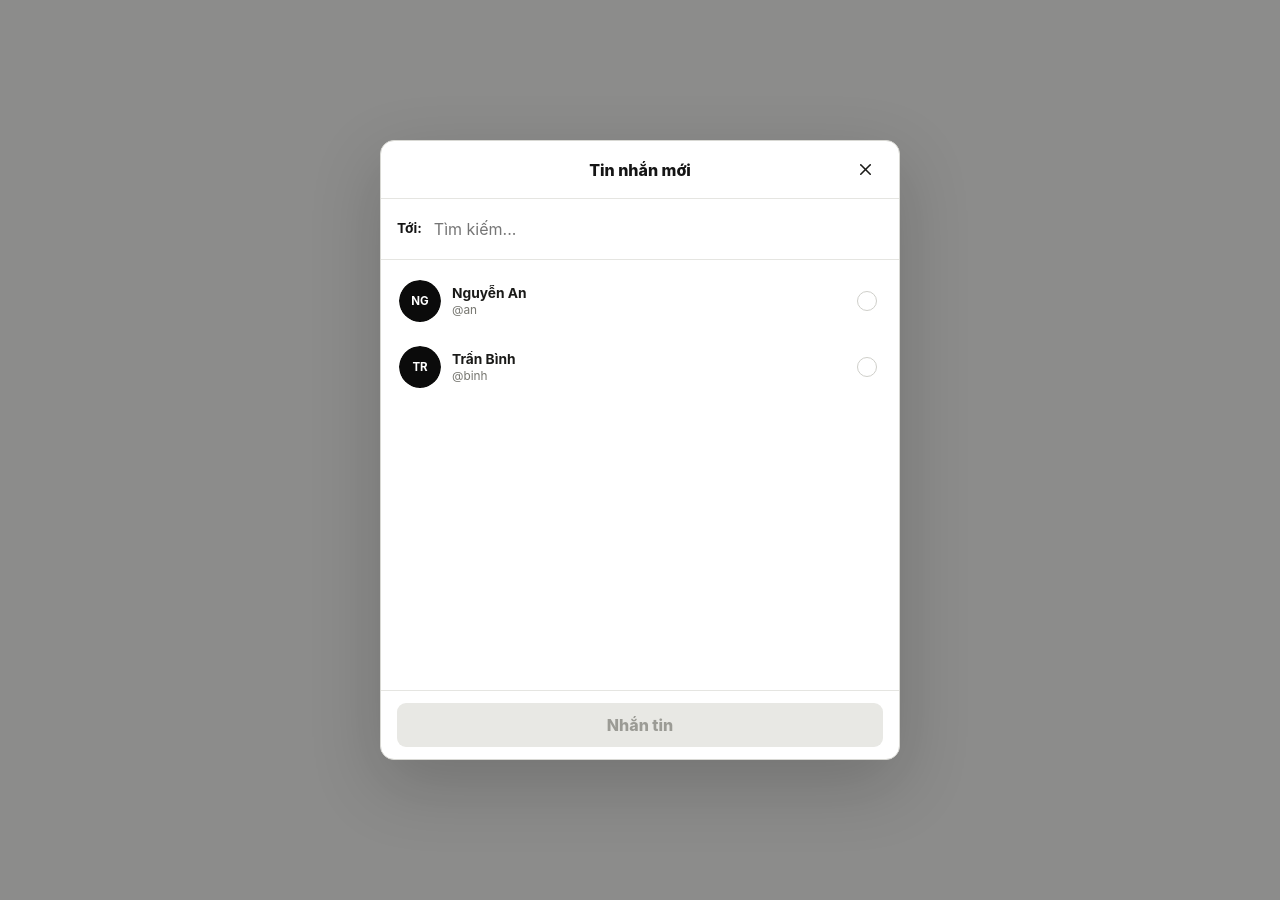
Test case: NewConversationDialog › does not close or submit twice while group creation is pending
Click the text "Nguyễn An".
click(489, 293)  # box [452,285,527,301]
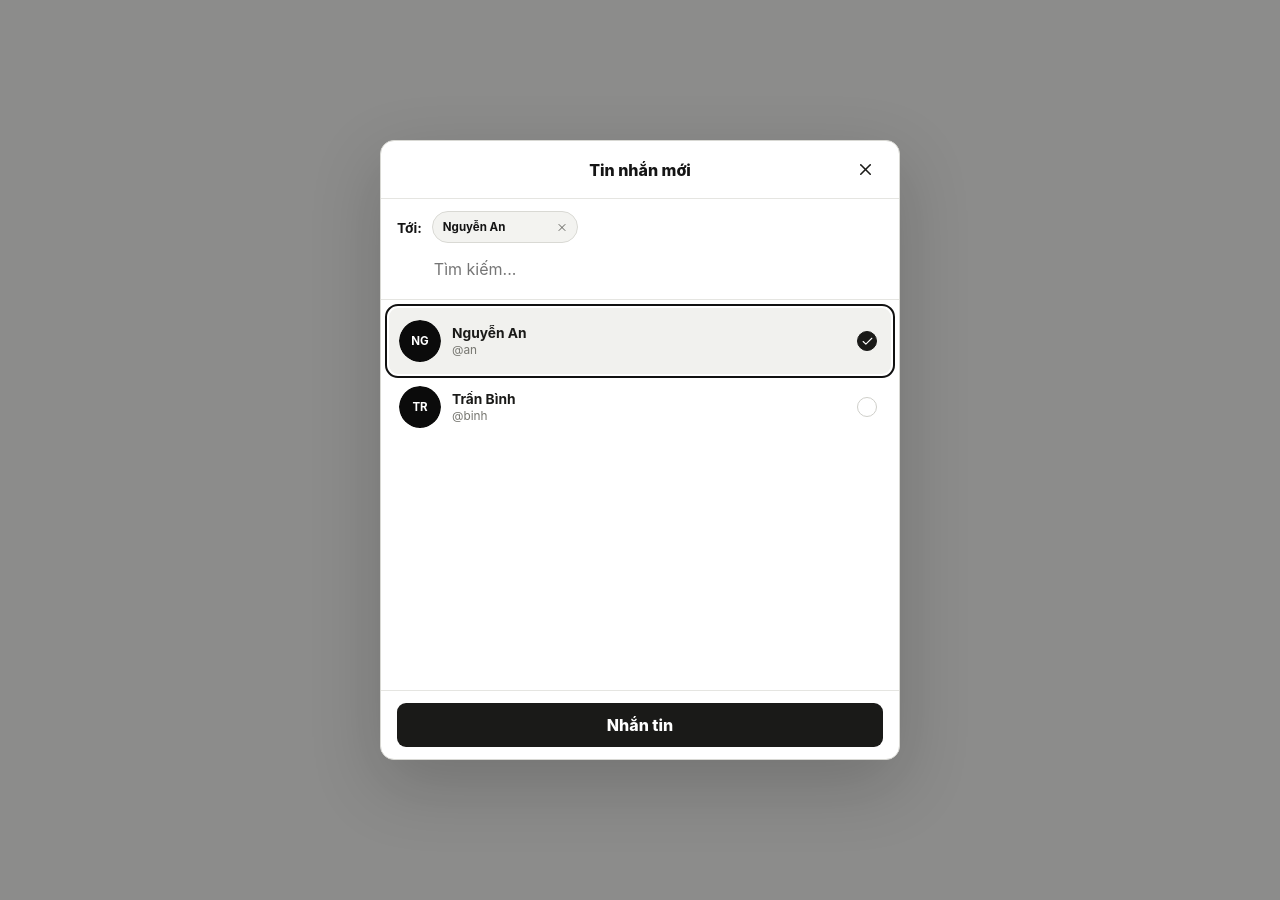
Click the text "Trần Bình".
click(484, 399)  # box [452,391,516,407]
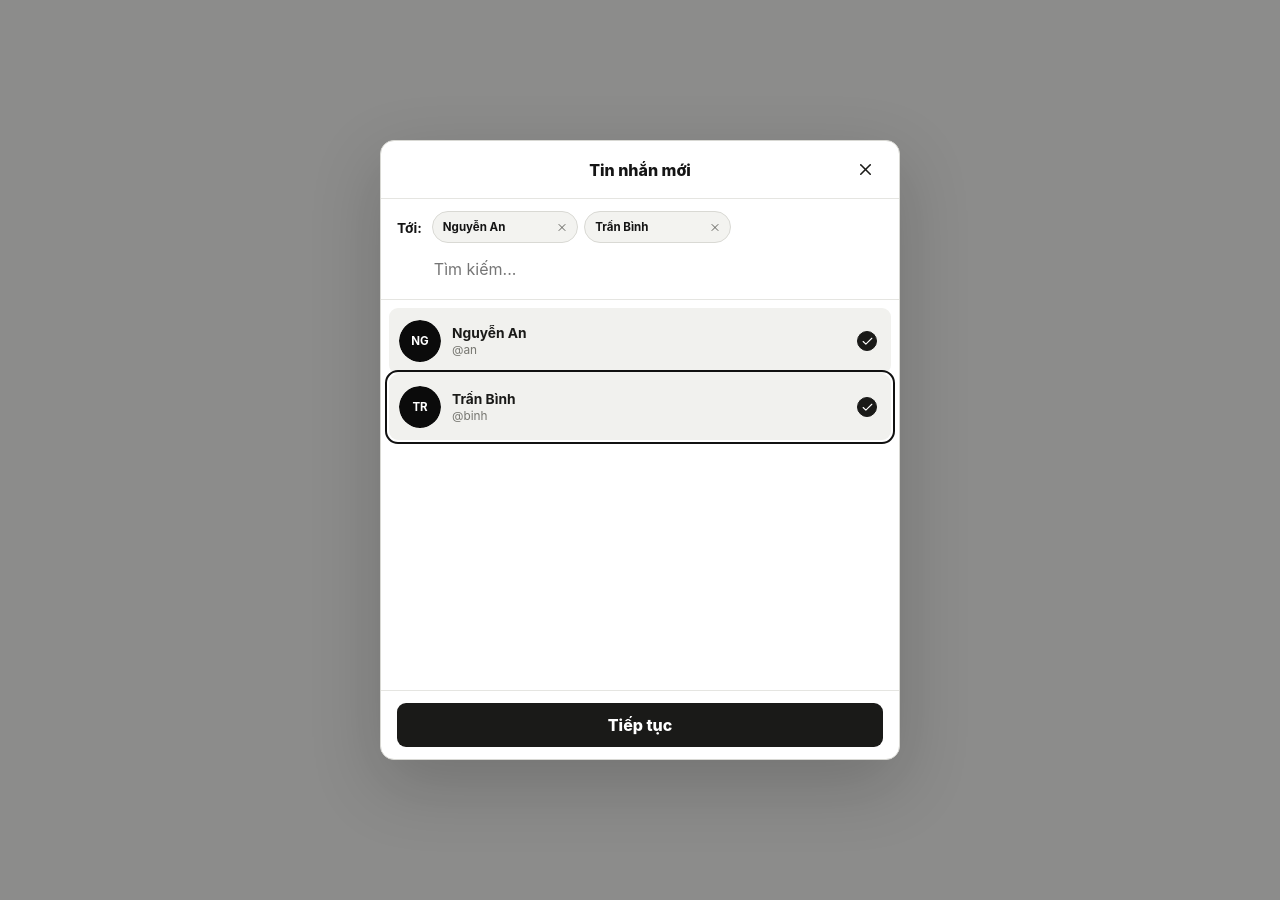
Click the button "Tiếp tục".
click(640, 725)  # box [397,703,883,747]
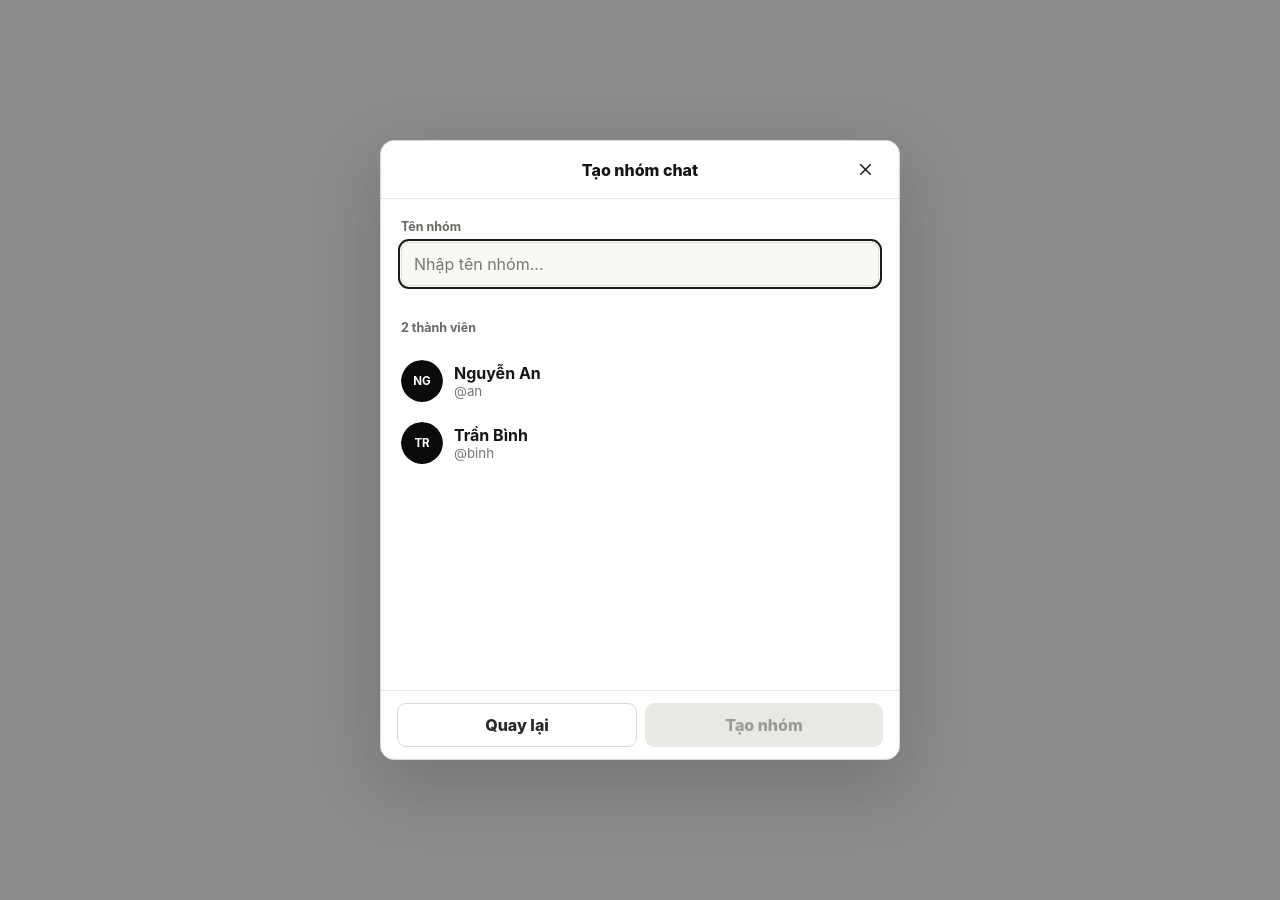
Type "Nhóm mới" into the field labelled "Tên nhóm".
click(640, 264); type("Nhóm mới")  # box [401,242,879,286]
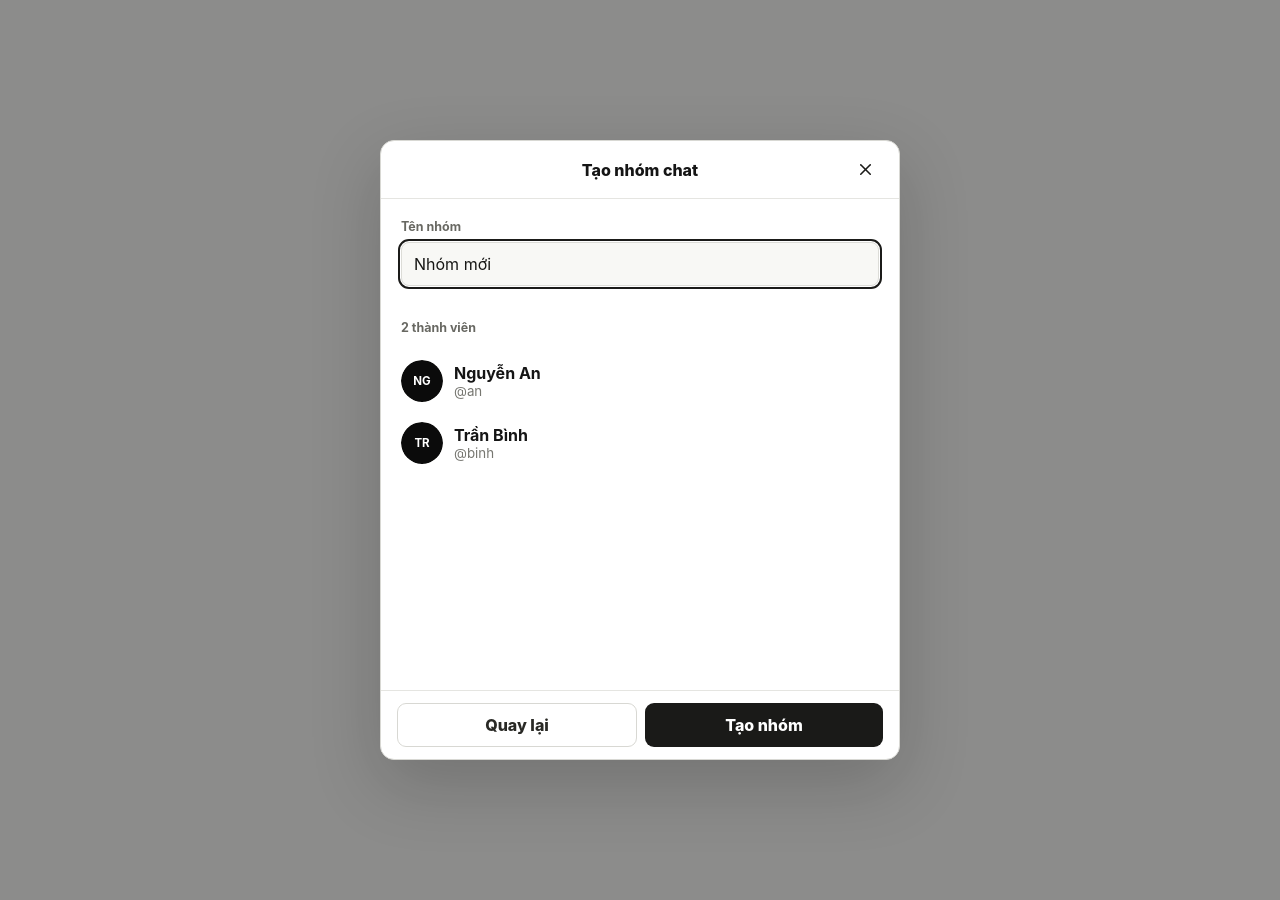
Click the button "Tạo nhóm".
click(764, 725)  # box [645,703,883,747]
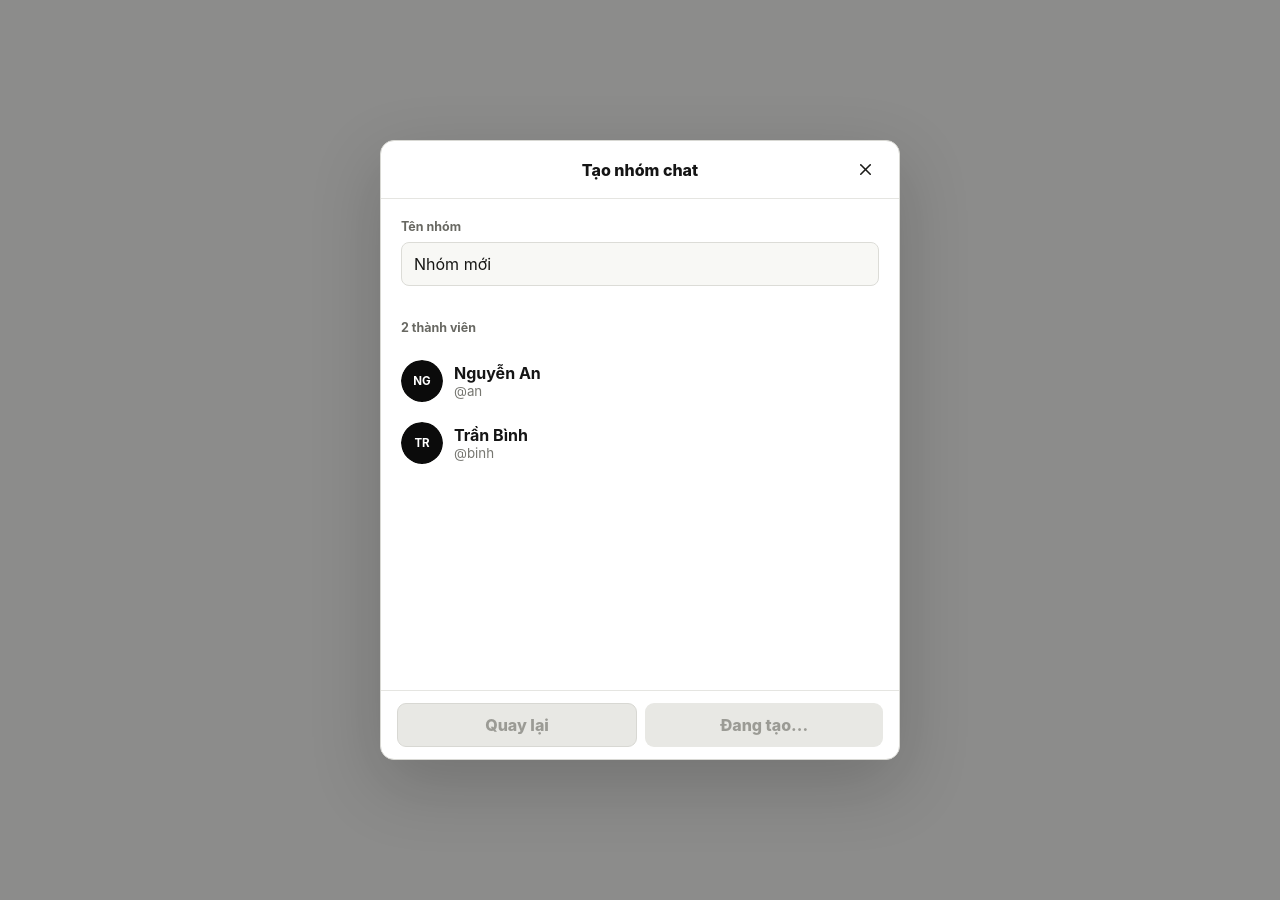
Expected: the button "Đang tạo..." is disabled, [645,703,883,747]
Press the mouse on the element with class "new-chat-backdrop" at {"x": 640, "y": 450}, box [0,0,1279,899]
Press Escape
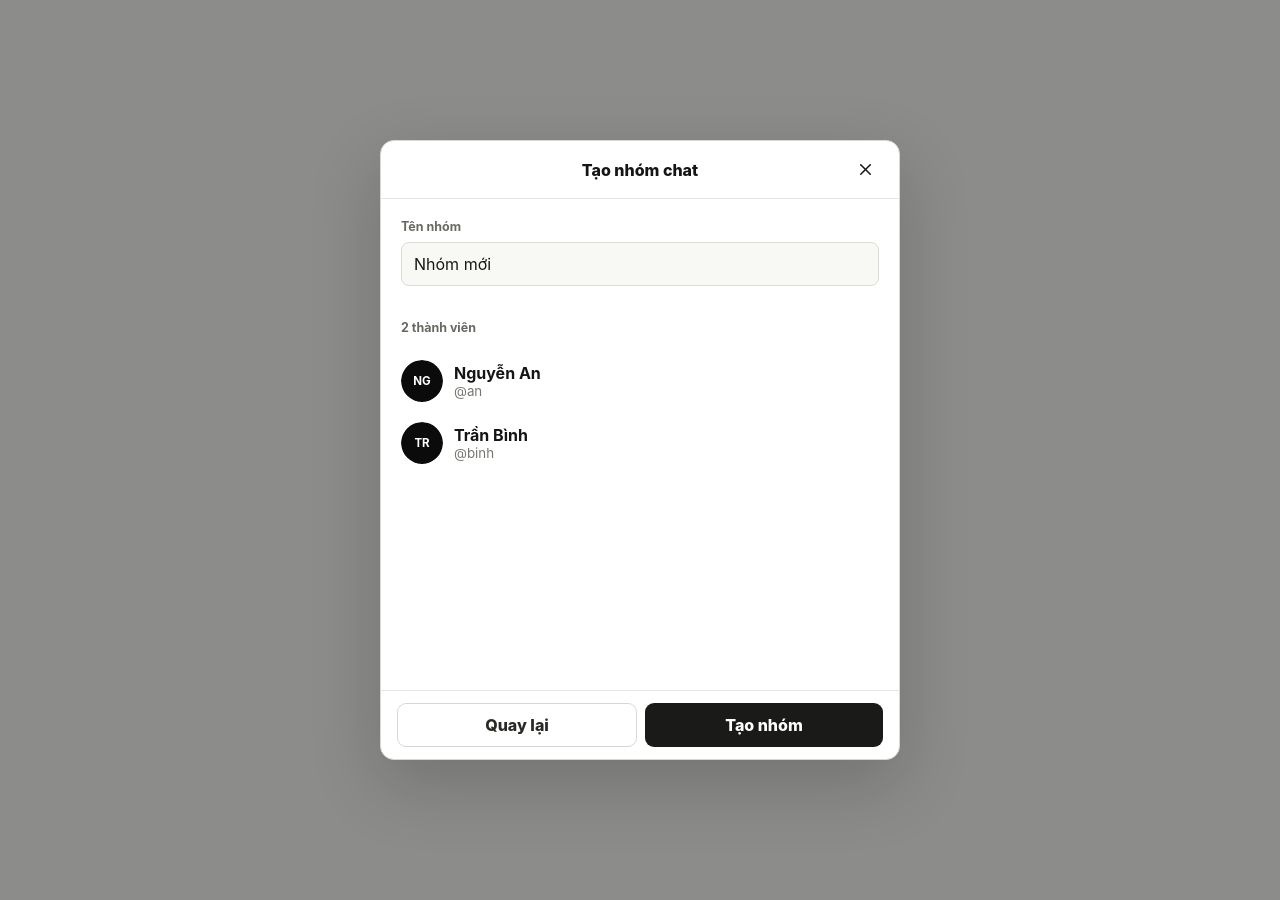
Expected: the button "Đang tạo..." is gone
